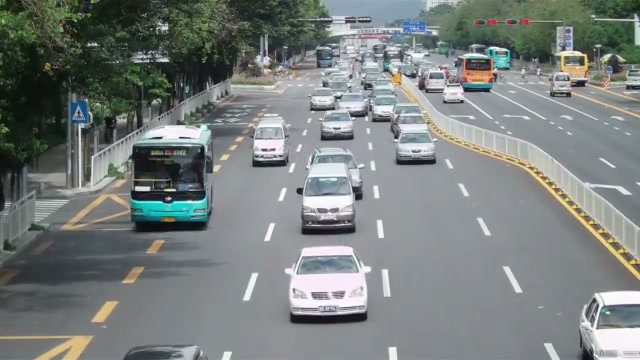bus: (130, 124, 215, 230), (457, 54, 495, 92), (556, 51, 589, 86), (485, 46, 511, 71)
car: (284, 245, 372, 323), (578, 290, 640, 359), (297, 166, 357, 234), (307, 147, 365, 200), (251, 115, 290, 166), (394, 126, 437, 164), (389, 104, 427, 139), (123, 345, 210, 360), (319, 109, 355, 140), (336, 93, 369, 118), (370, 94, 398, 122), (548, 72, 573, 97), (309, 88, 336, 111), (425, 71, 448, 93), (442, 83, 465, 104)
truck: (557, 50, 589, 86), (624, 66, 640, 90)
